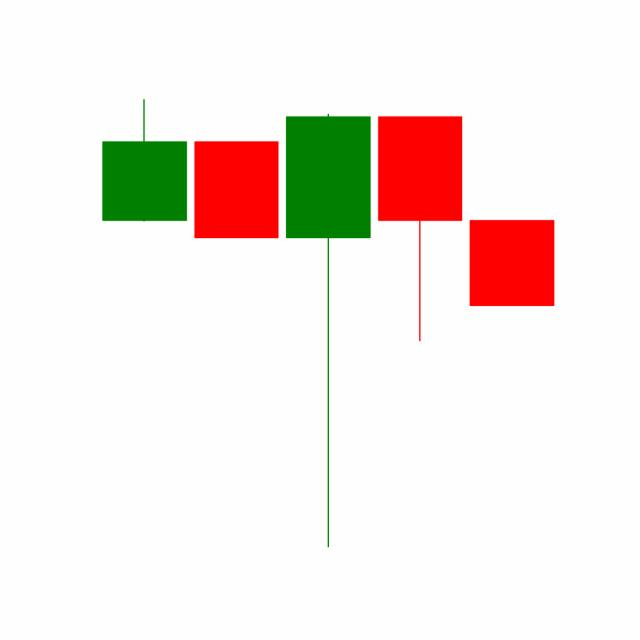Marubozu: (464, 218, 558, 306)
